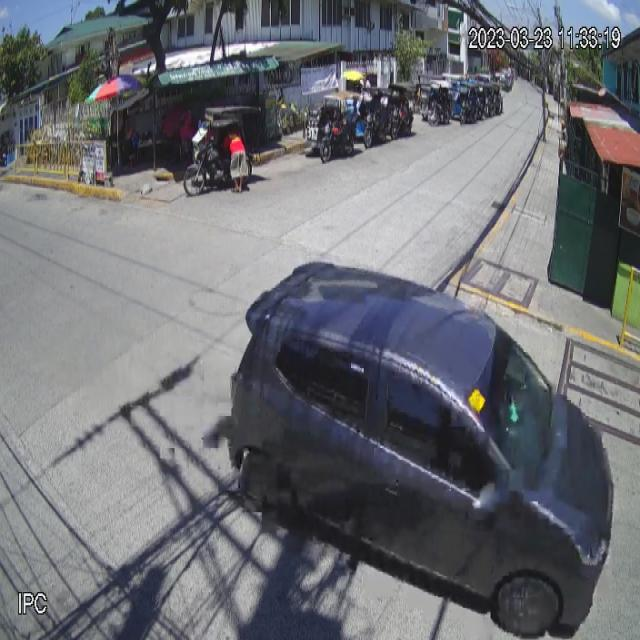Car: (228, 263, 613, 640)
